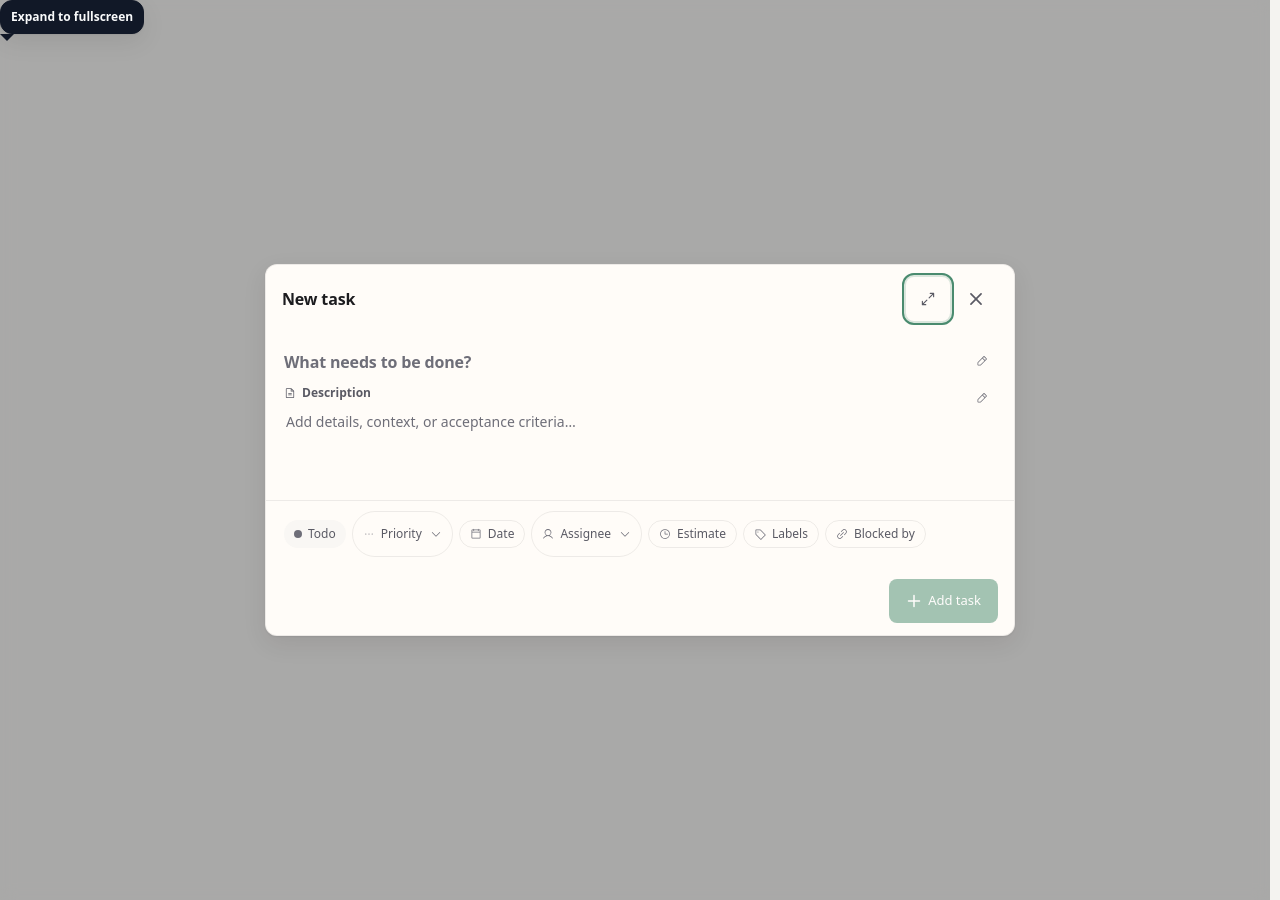
Test case: NewTaskModal blocked-by picker › keeps the popup open on option pointerdown and adds the blocker on click
This screenshot has width=1280, height=900.
Step 1. Click the button "Blocked by" → (875, 534), box 825,520 -> 926,548
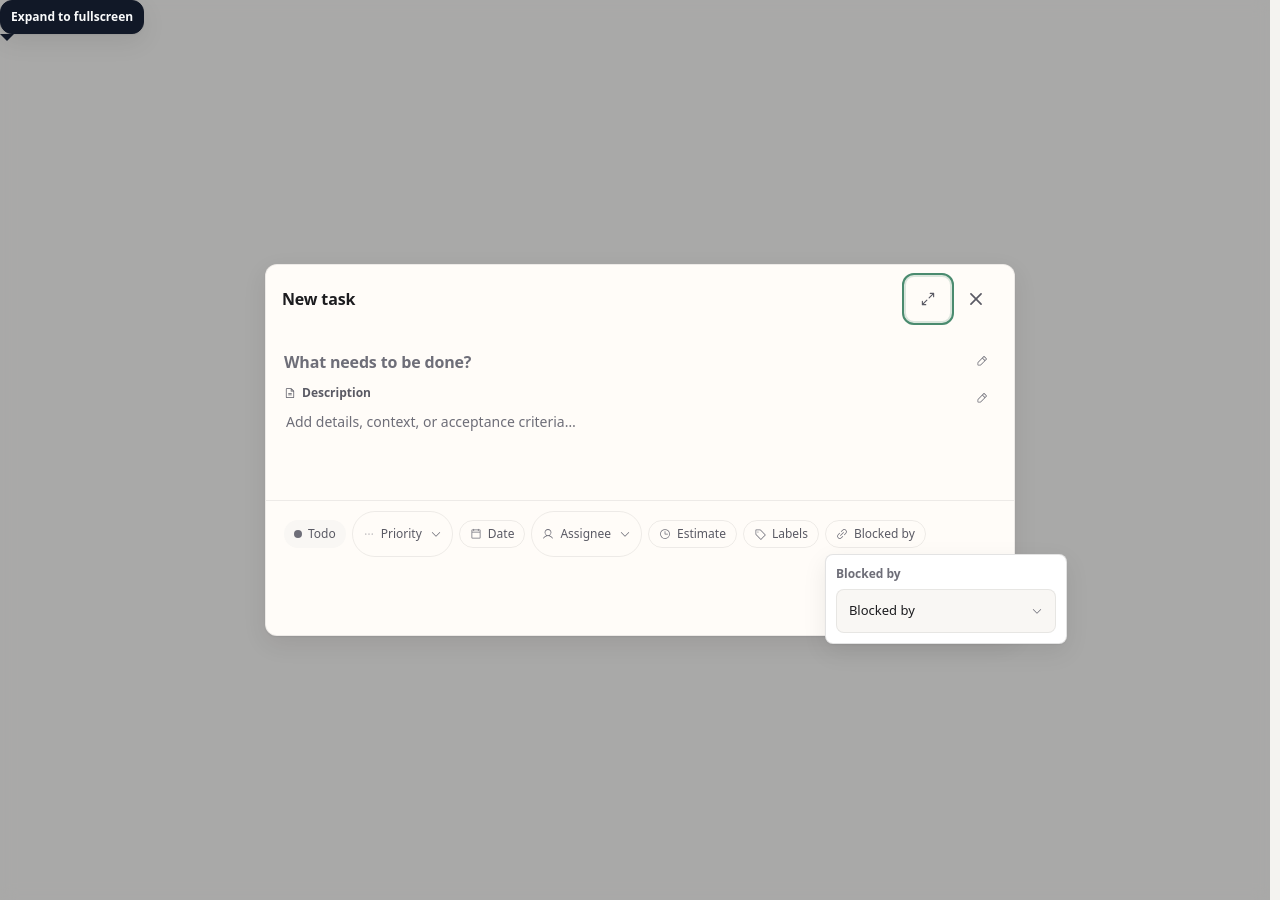
Expected: the dialog "Blocked by" is shown, 825,554 -> 1067,644
Step 2. Click the 2nd button "Blocked by" → (946, 611), box 836,589 -> 1056,633
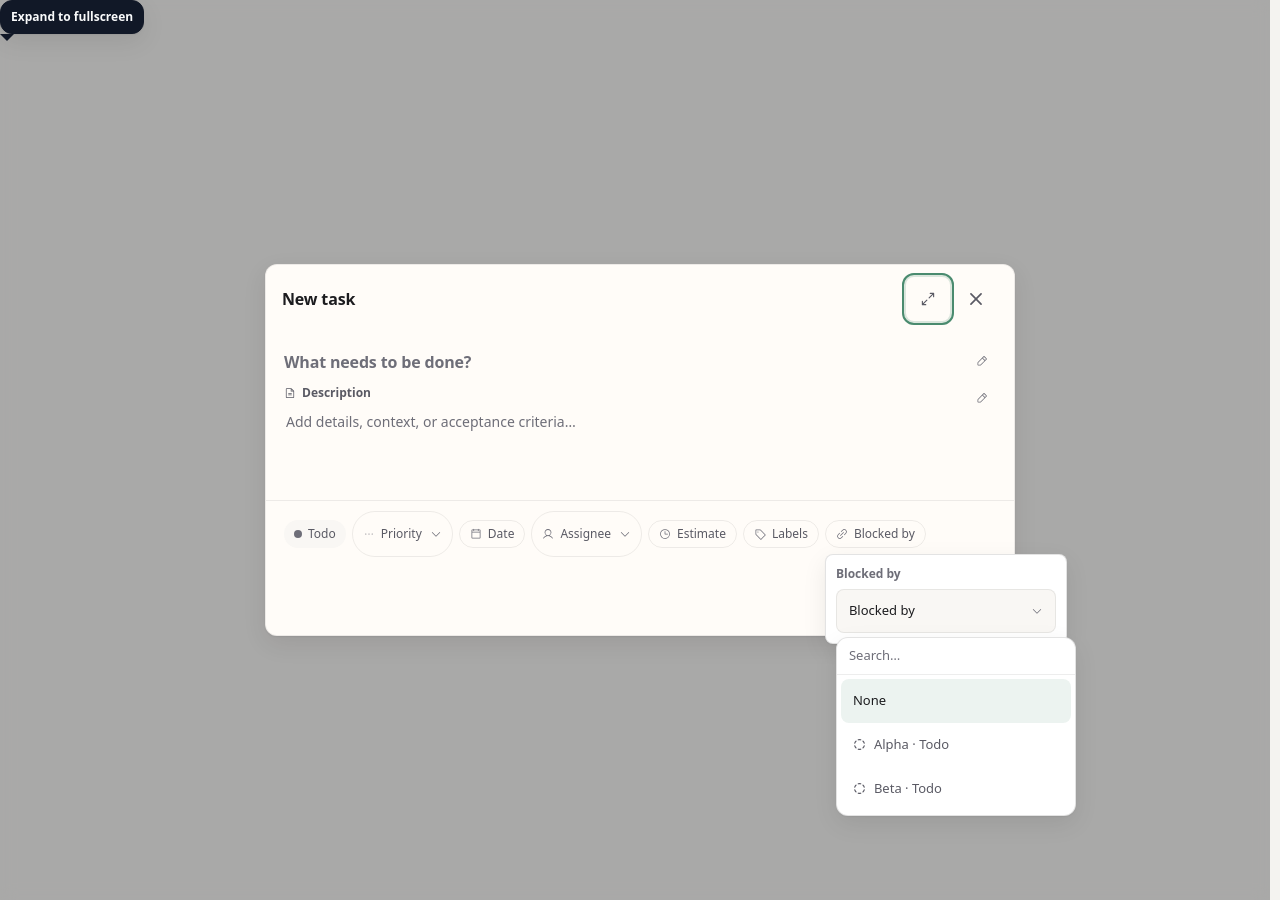
Step 3. Press the mouse on the option "Alpha · Todo" → (956, 744), box 841,722 -> 1071,766
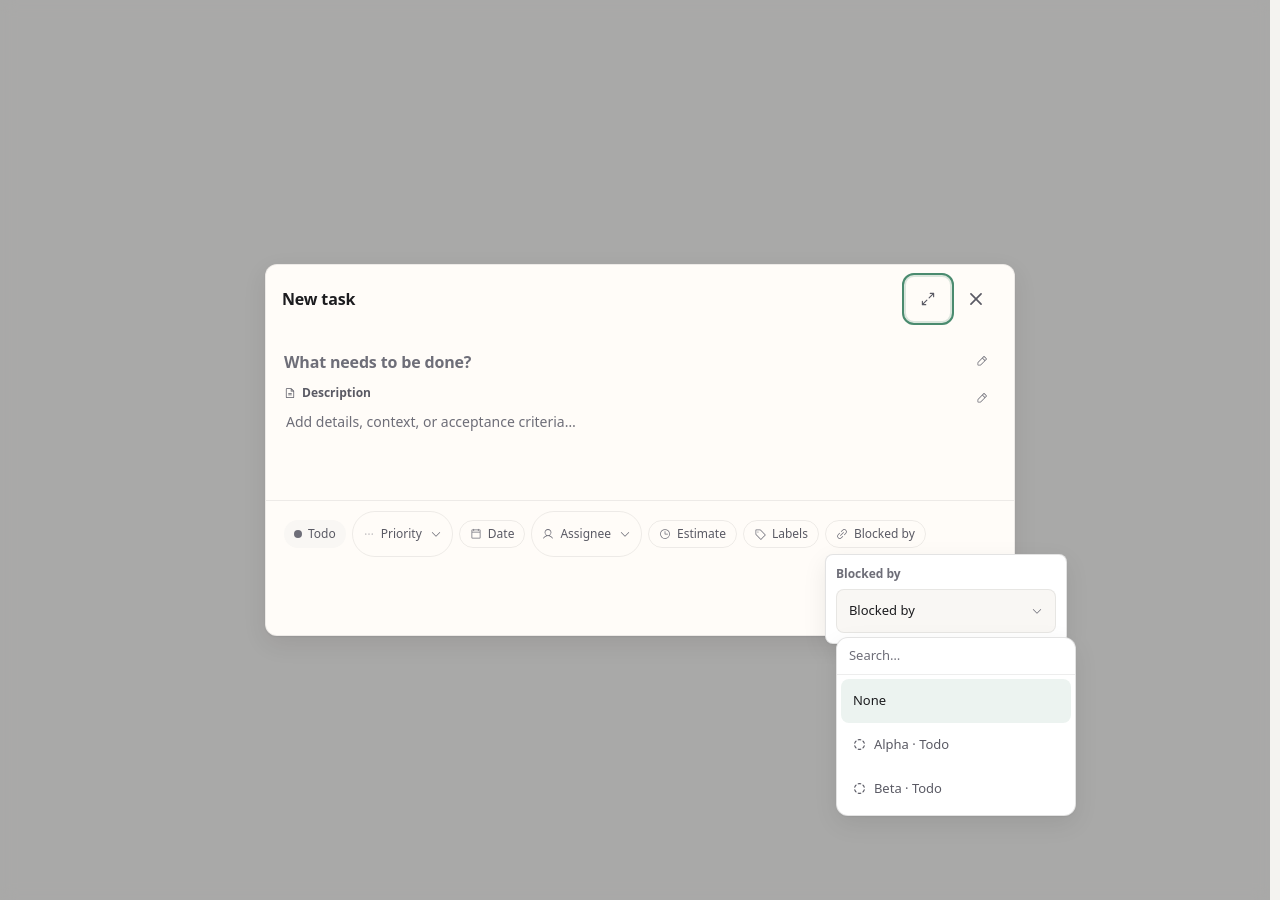
Expected: the dialog "Blocked by" is shown, 825,554 -> 1067,644
Step 4. Click the option "Alpha · Todo" → (956, 744), box 841,722 -> 1071,766
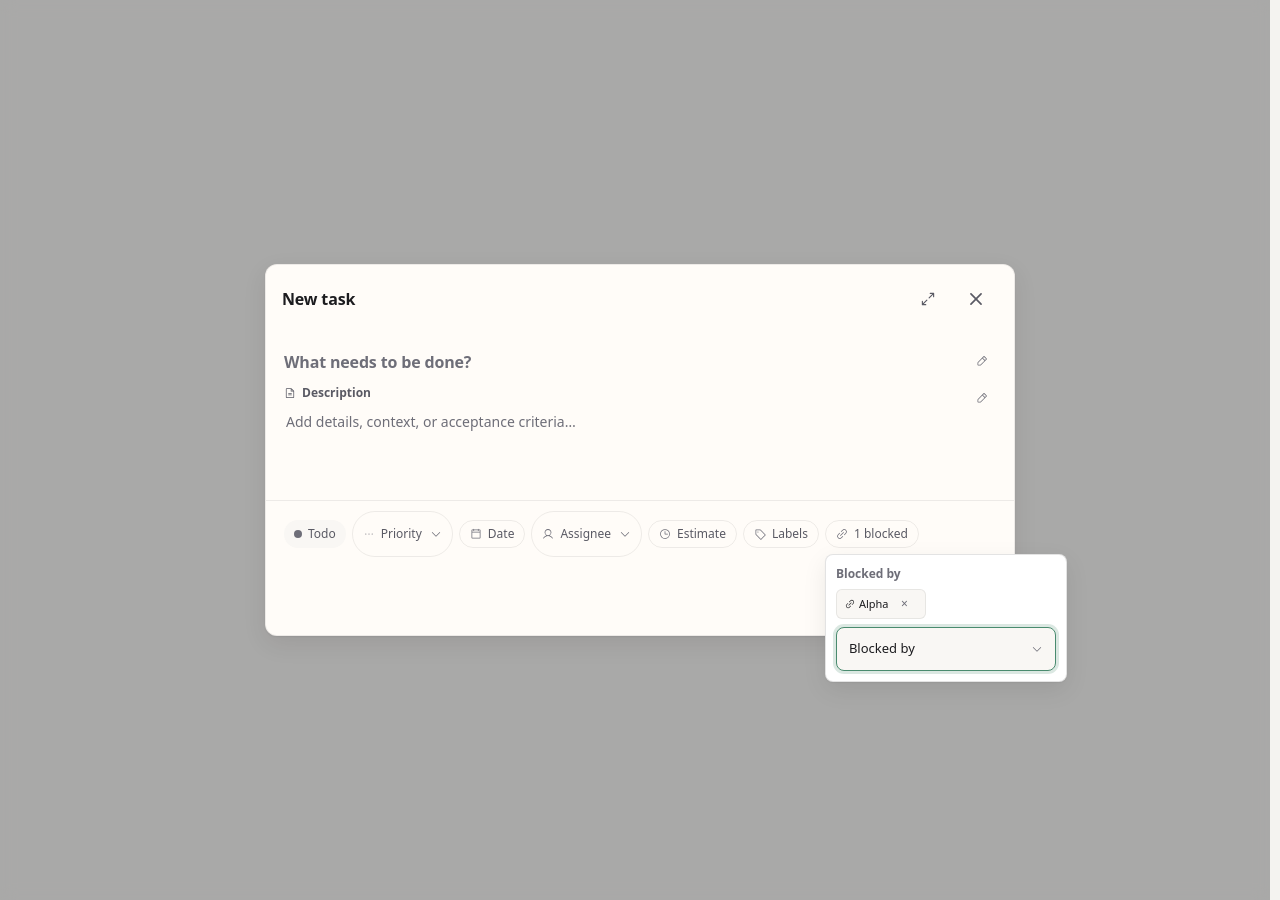
Expected: the dialog "Blocked by" is shown, 825,554 -> 1067,682
Expected: the text "1 blocked" is shown, 854,525 -> 908,543
